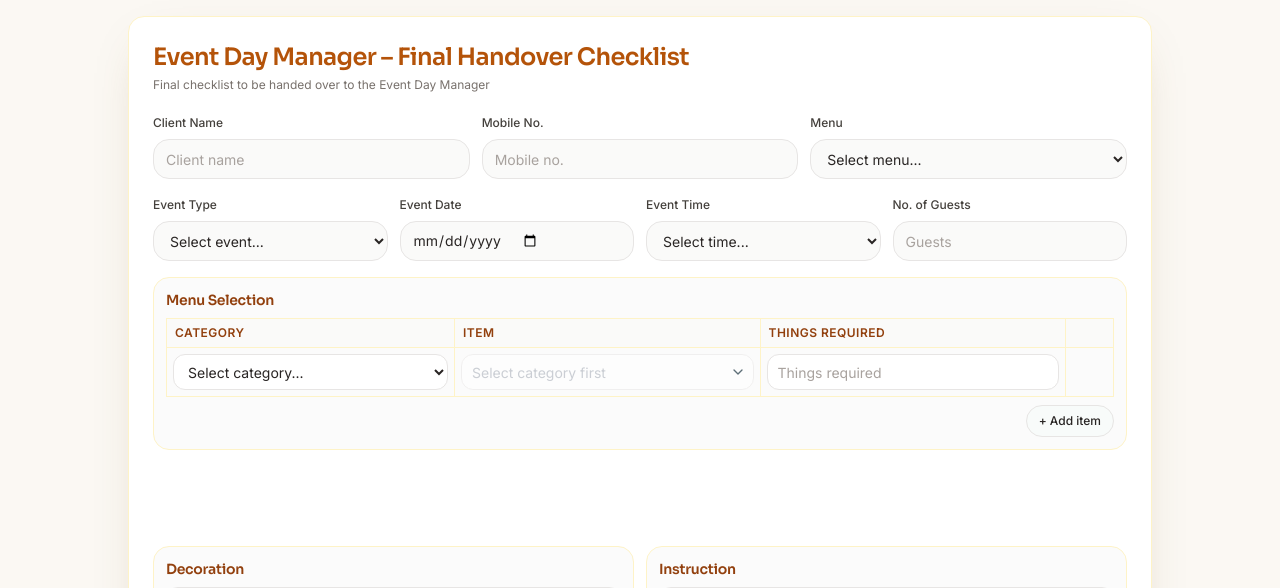
Test: Banquet public handover checklist › filters the item list as the user types instead of showing every item
The width and height of the screenshot is (1280, 588).
Select "Main Course" in the dropdown named "Row 1 category": (310, 372) [173,354,448,390]
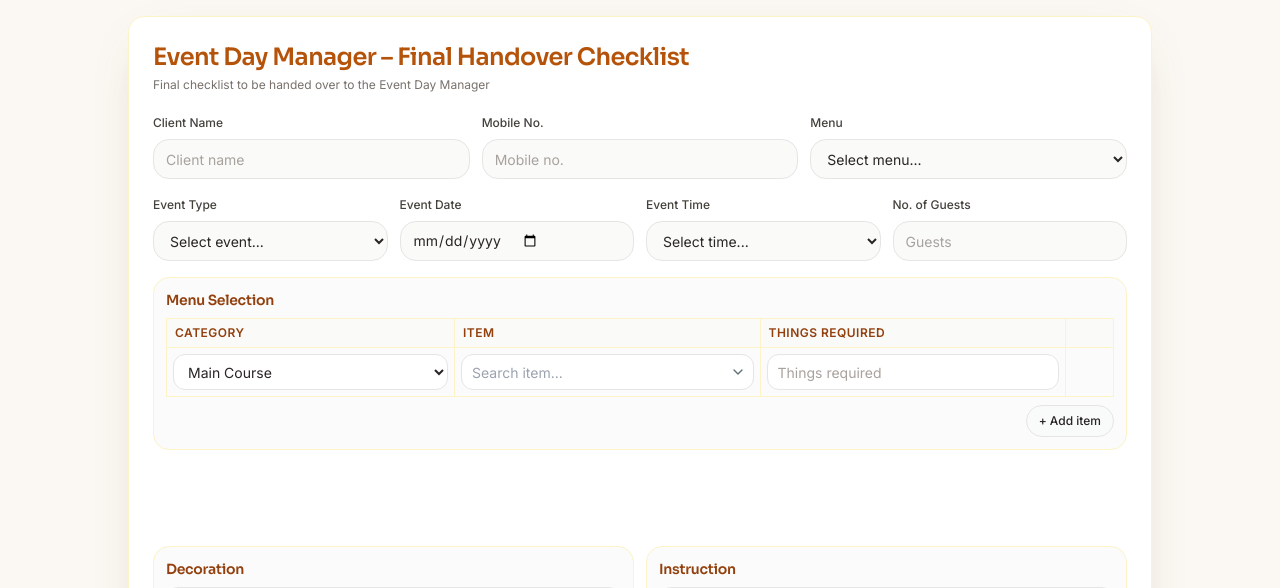
In the dropdown named "Row 1 item": (607, 372) [461,354,754,390], type "paneer kadai"
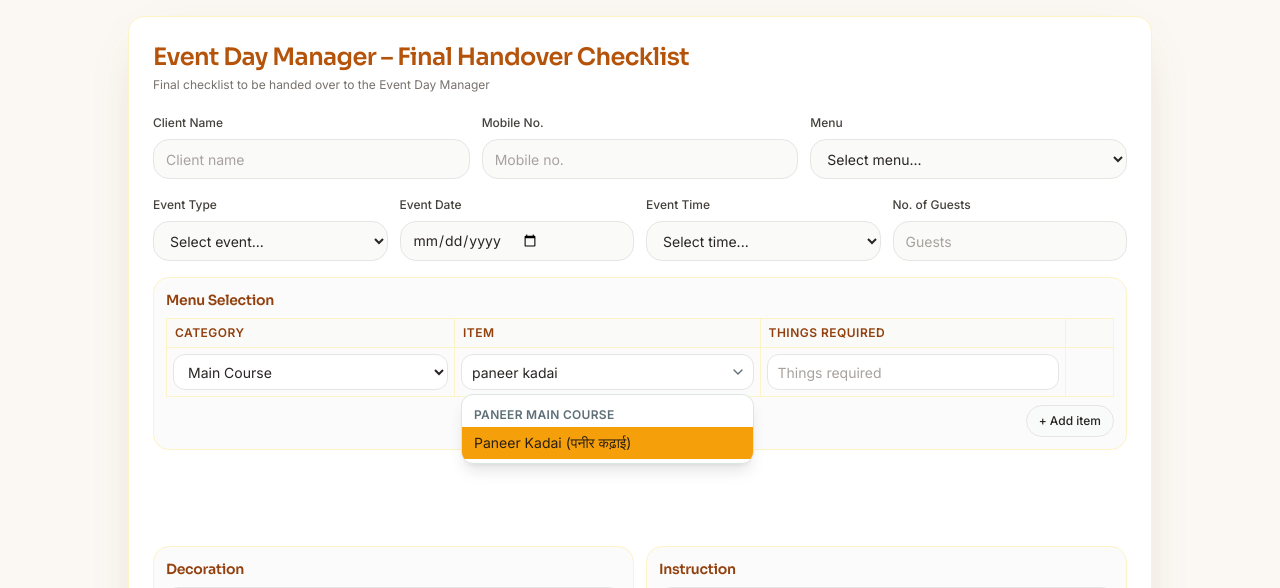
Result: the options read "Paneer Kadai (पनीर कढ़ाई)", in this order at [462,427,752,459]
Replace the text in the dropdown named "Row 1 item" with "kofta": (607, 372) [461,354,754,390]
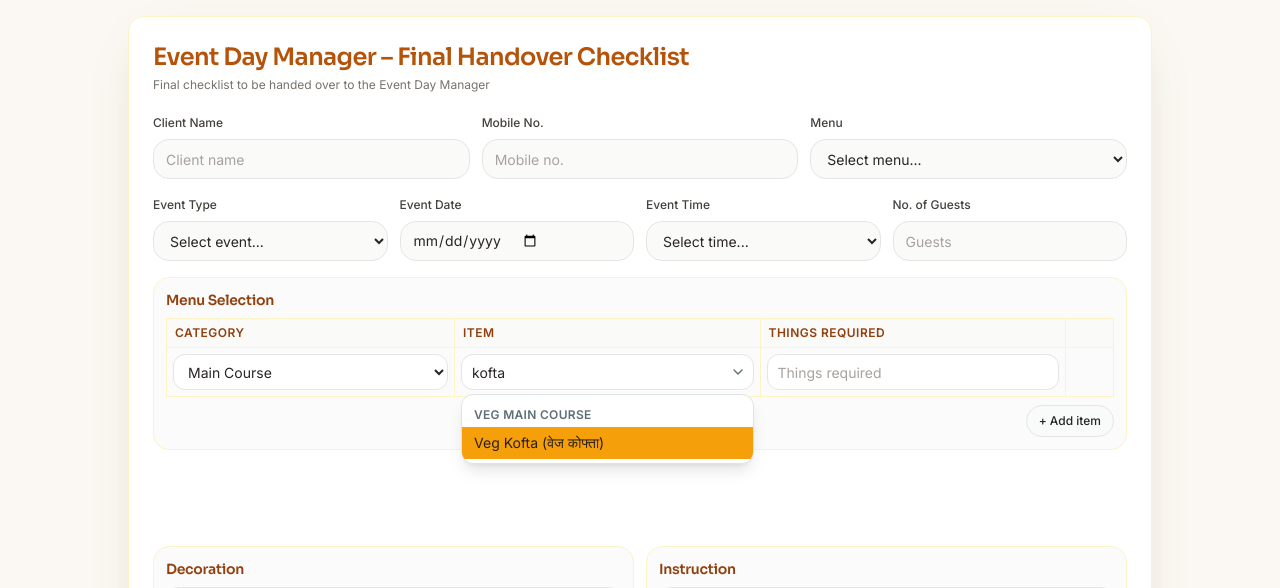
Click the option "Veg Kofta (वेज कोफ्ता)": click(539, 442) [462,427,752,459]
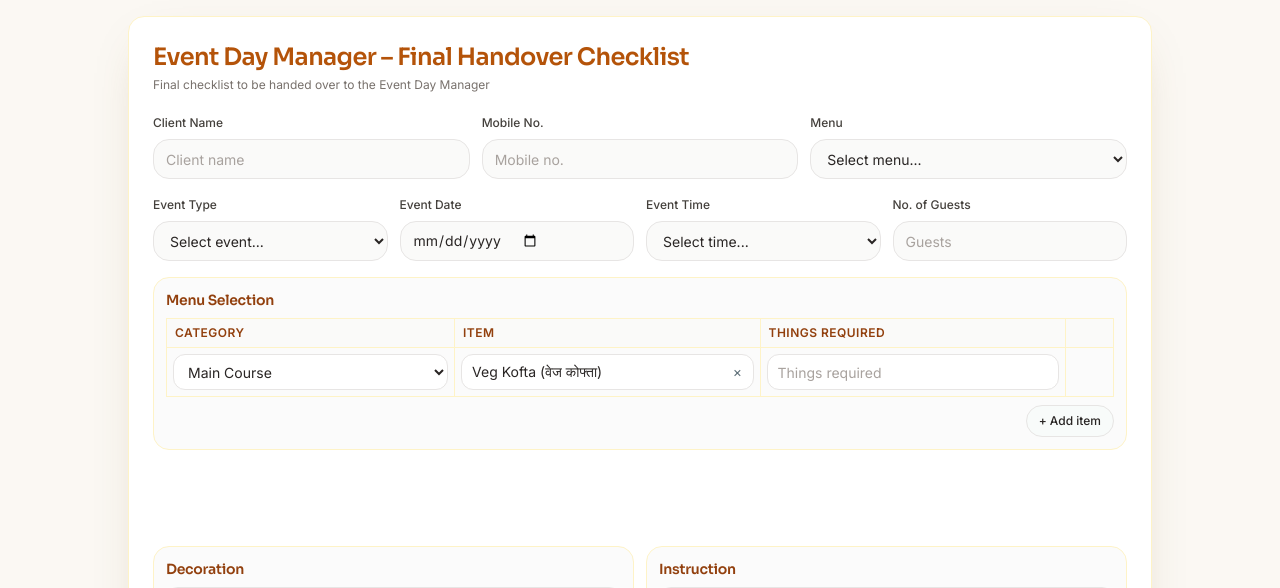
Result: the dropdown named "Row 1 item" holds "Veg Kofta (वेज कोफ्ता)"
Replace the text in the dropdown named "Row 1 item" with "nothing here": (607, 372) [461,354,754,390]
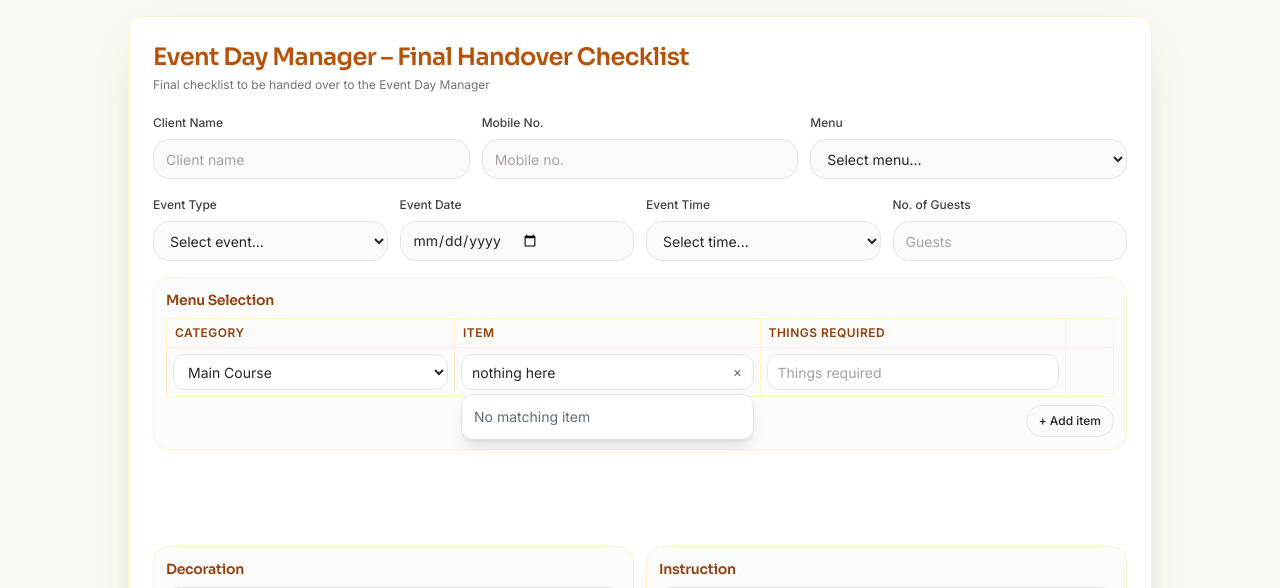
Result: no options are shown
Result: the list item "No matching item" is shown at [474,408,590,425]
